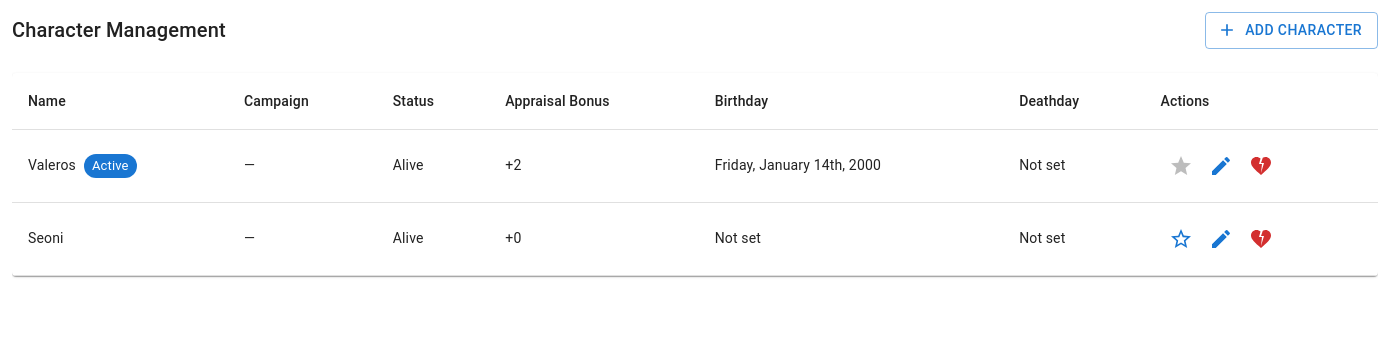
Test: CharacterTab › sets a character active, reloads the list and refreshes the cached user
Expected: the text "Seoni" is shown, top-left (28, 230), bottom-right (64, 246)
What coordinates should you click on to do the following:
click the button named "Set as Active Character" in the row of "Seoni"
I would click on:
 (1180, 238)
Its box is top-left (1160, 218), bottom-right (1200, 258).
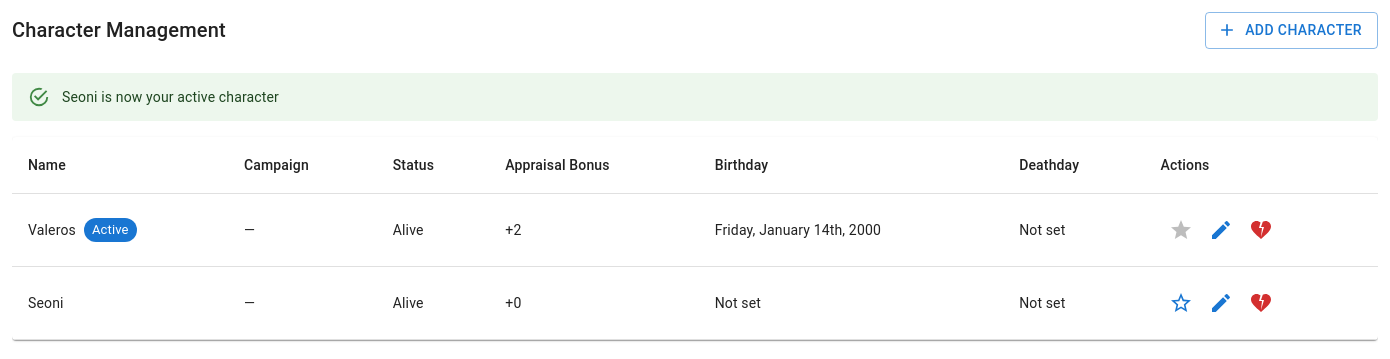
Expected: the text "Seoni is now your active character" is shown, top-left (62, 88), bottom-right (279, 104)
